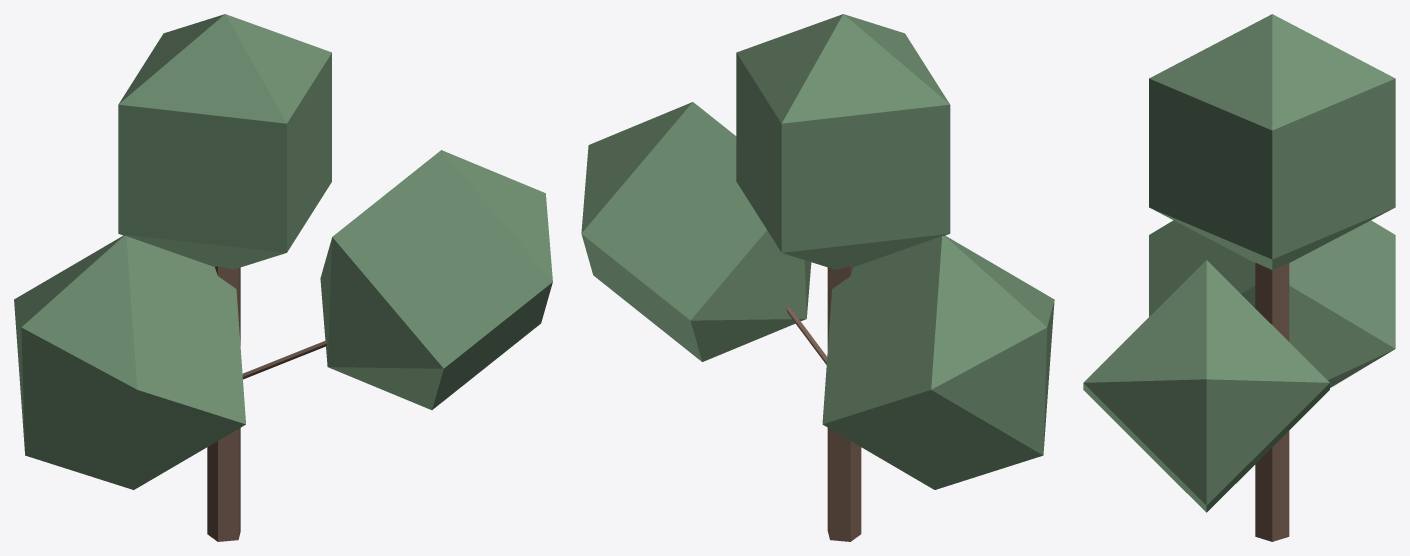
The model's file is tree_1.fbx.
The picture shows the model from 3 angles, left to right: view 1: azimuth 30°, elevation 25°; view 2: azimuth 150°, elevation 25°; view 3: azimuth 270°, elevation 25°; orthographic projection.
Parts seen in each view (by area): view 1: pCylinder9; view 2: pCylinder9; view 3: pCylinder9.
Boxes of the visible parts, left/top/right/bottom form: pCylinder9: left=14, top=14, right=552, bottom=541; pCylinder9: left=581, top=14, right=1054, bottom=541; pCylinder9: left=1083, top=14, right=1395, bottom=541.
Size of the model in its own units: 175 by 178 by 96.53.
